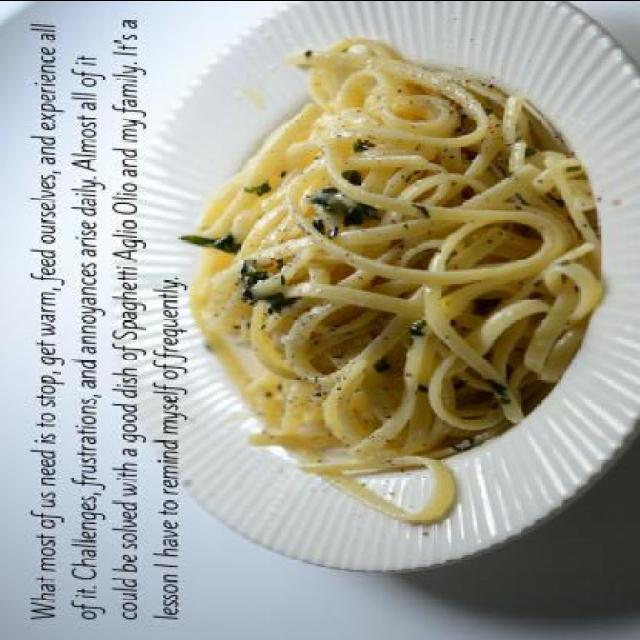Oil pasta: (201, 71, 639, 492)
